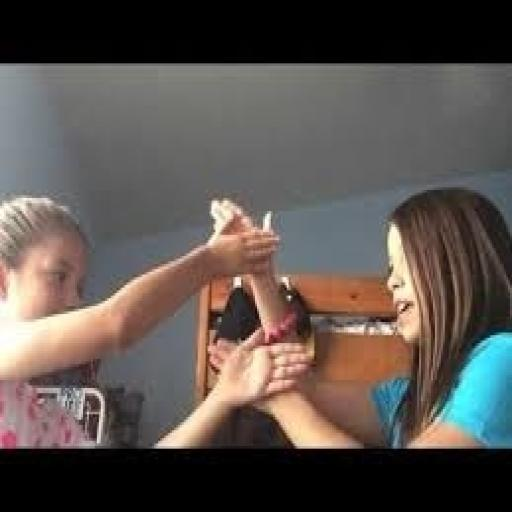clapping: (0, 190, 314, 448), (210, 182, 510, 449)
